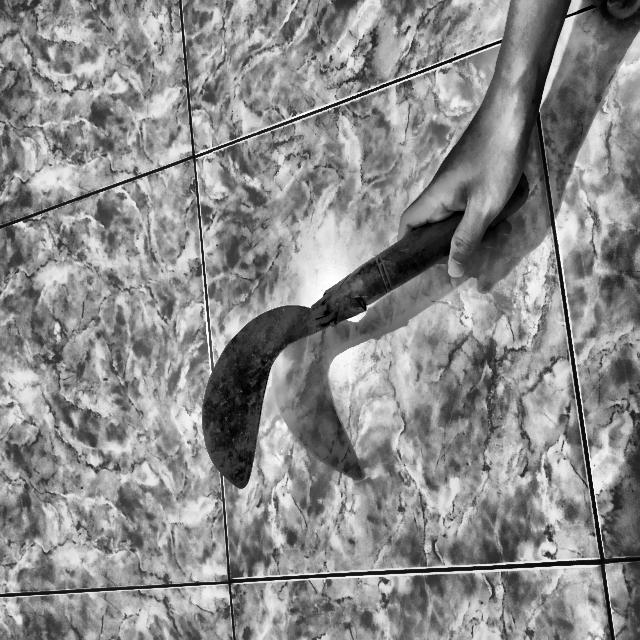celurit: (191, 159, 544, 498)
